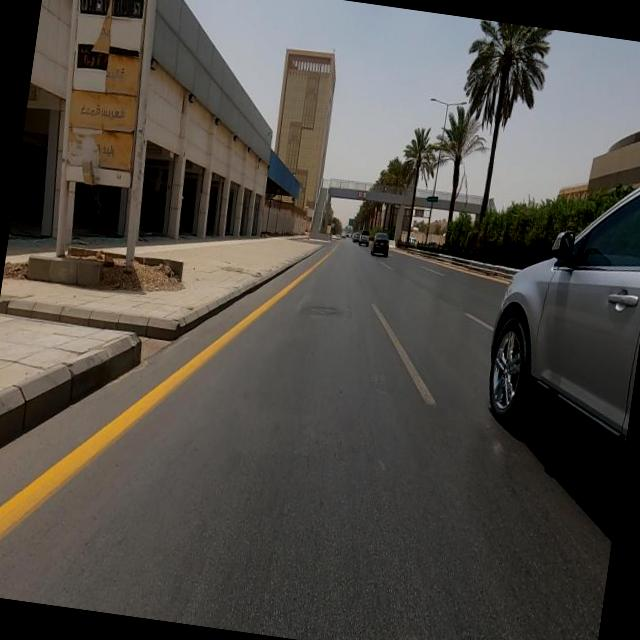debris: (1, 0, 208, 310)
